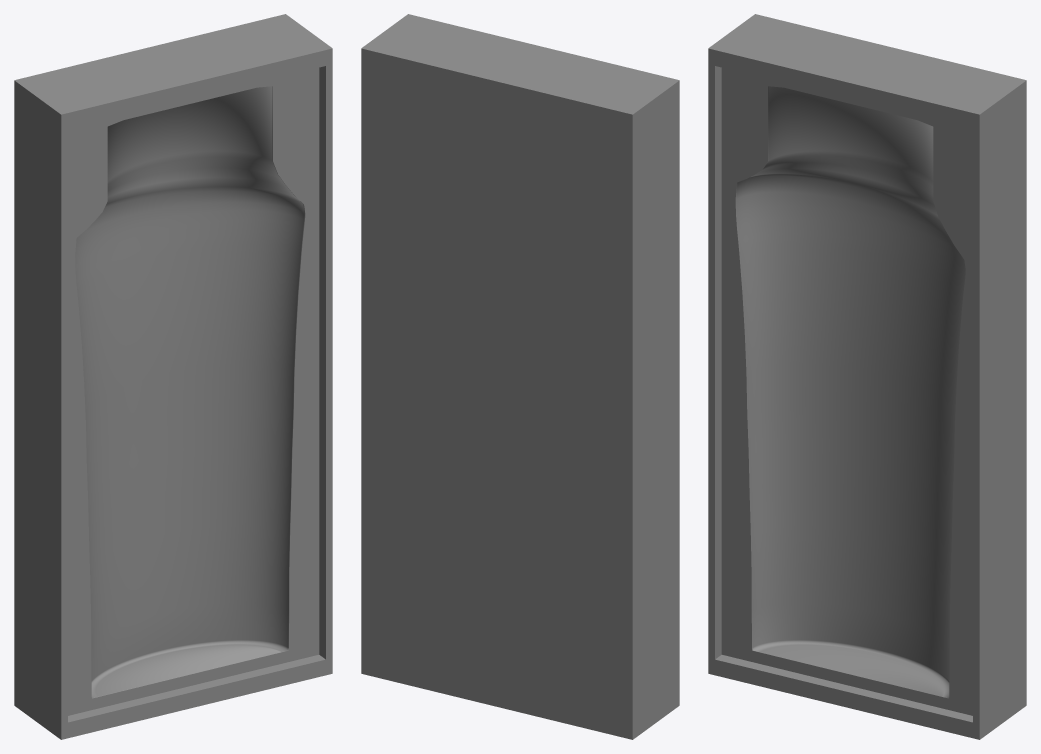
The model's file is shampoo_box.obj.
The picture shows the model from 3 angles, left to right: view 1: azimuth 30°, elevation 25°; view 2: azimuth 150°, elevation 25°; view 3: azimuth 330°, elevation 25°; orthographic projection.
Parts seen in each view (by area): view 1: Cube.004; view 2: Cube.004; view 3: Cube.004.
Boxes of the visible parts, x1,y1,x2,y2 form: Cube.004: (14, 14, 332, 739); Cube.004: (361, 14, 679, 739); Cube.004: (708, 14, 1026, 739).
Size of the model in its own units: 2 by 4.4 by 0.6.
1 material, 1 textured.
